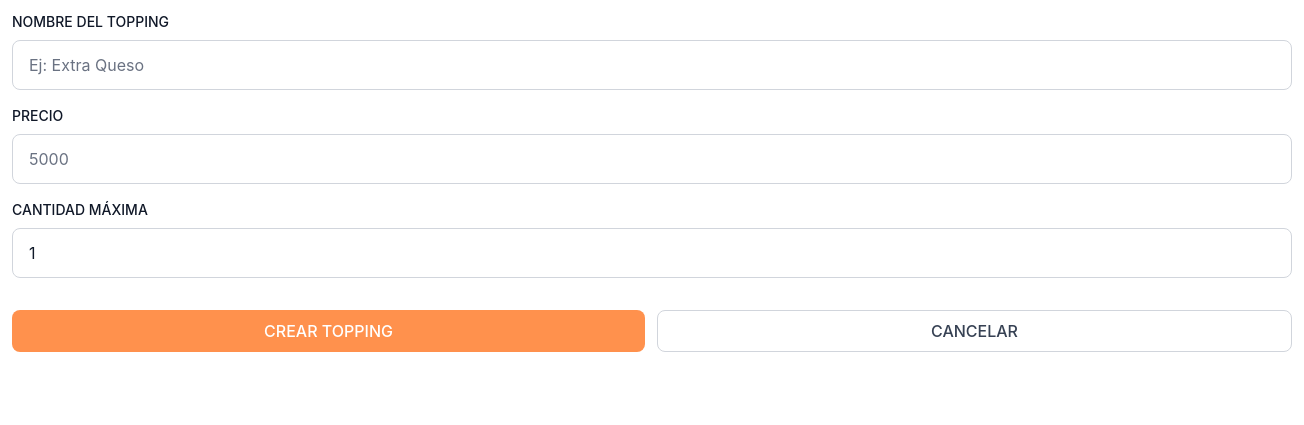
Test: CreateToppingForm › should validate required fields
Click the button "CREAR TOPPING" at [328, 331], box [12,310,645,352]
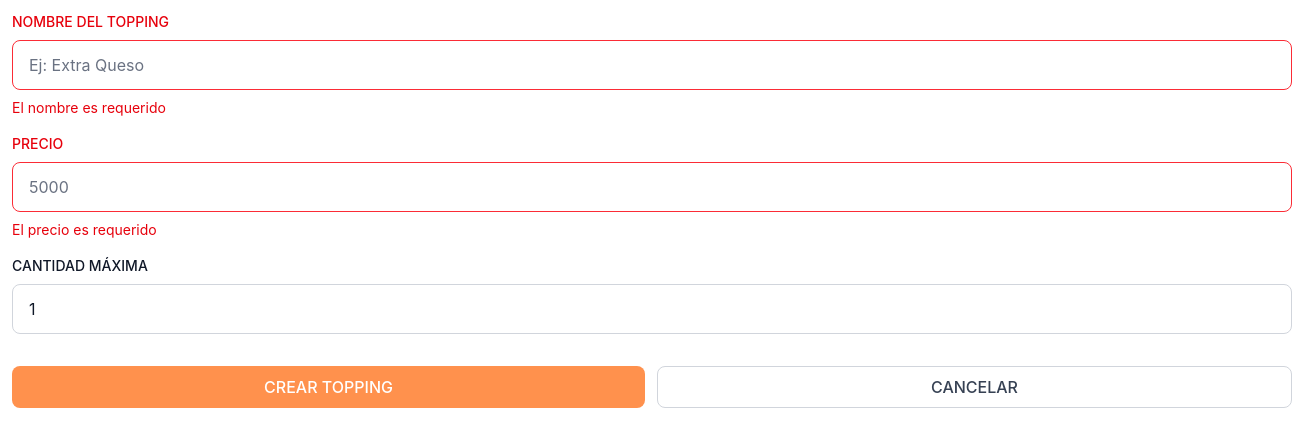
Expected: the text "El nombre es requerido" is shown, [12,99,166,116]
Expected: the text "El precio es requerido" is shown, [12,221,157,238]
